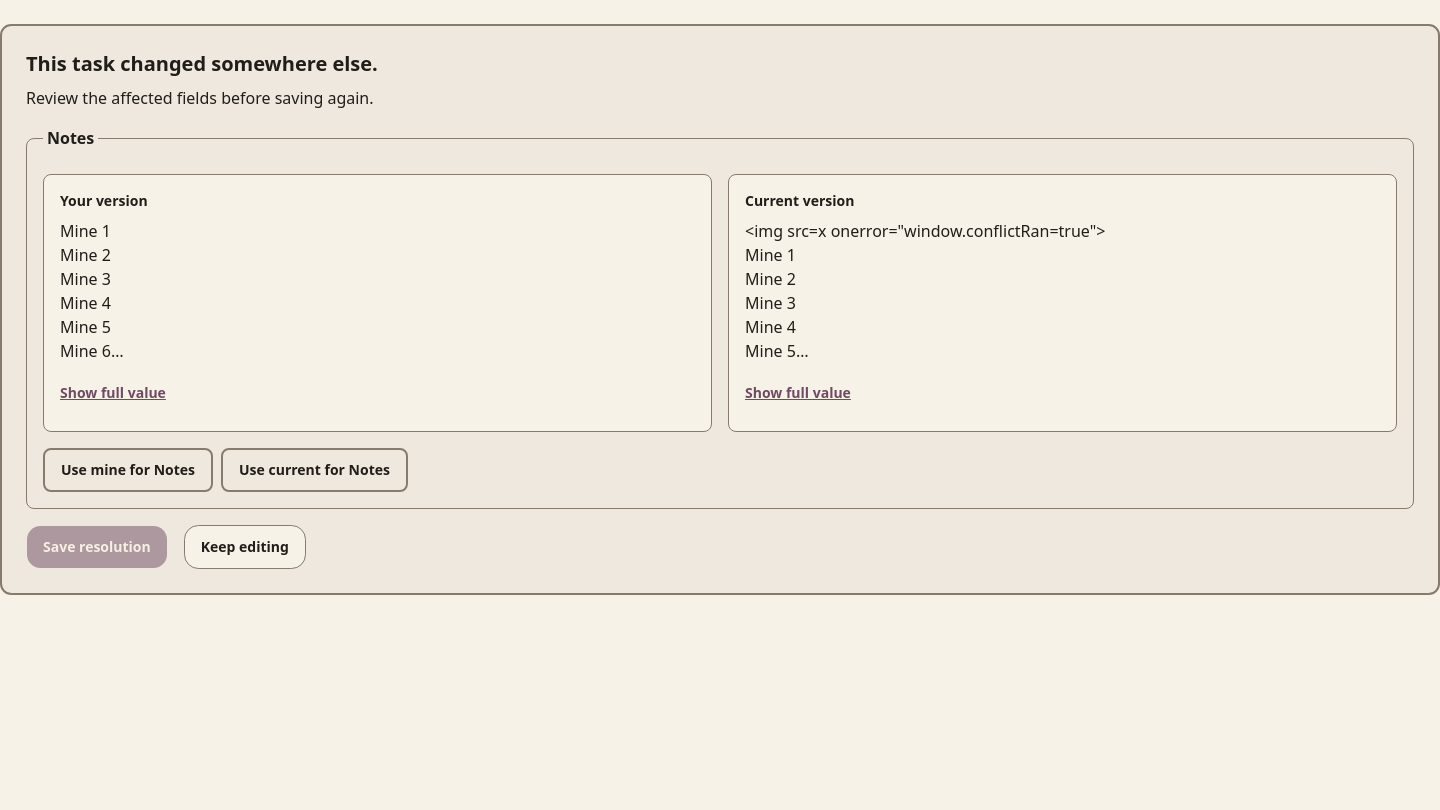
Scenario: inline task conflict resolution › renders long hostile values as affected plain text with an accessible six-line disclosure
Expected: the heading "Your version" is shown, [60,191,148,210]
Expected: the heading "Current version" is shown, [745,191,854,210]
Click the button "Show full value" below "Your version": (113, 393) [60,371,166,415]
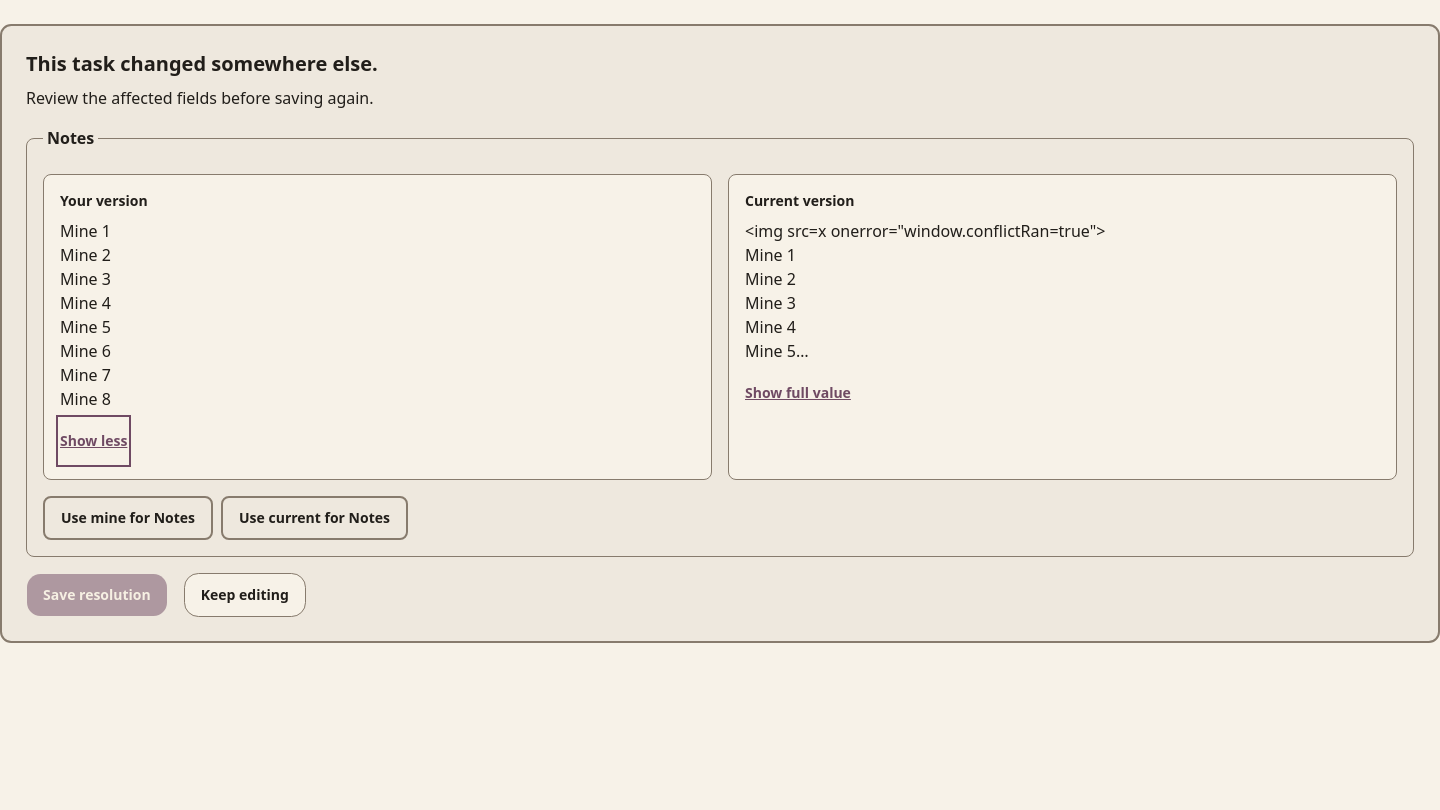
Expected: the button named "Show full value" is expanded, [60,419,127,463]
Expected: the button named "Show full value" reads "Show less", [60,419,127,463]
